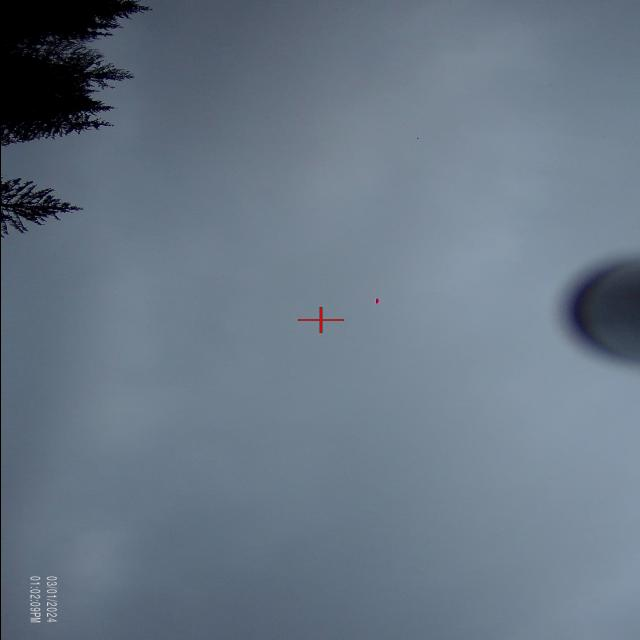entire: (364, 294, 386, 307)
